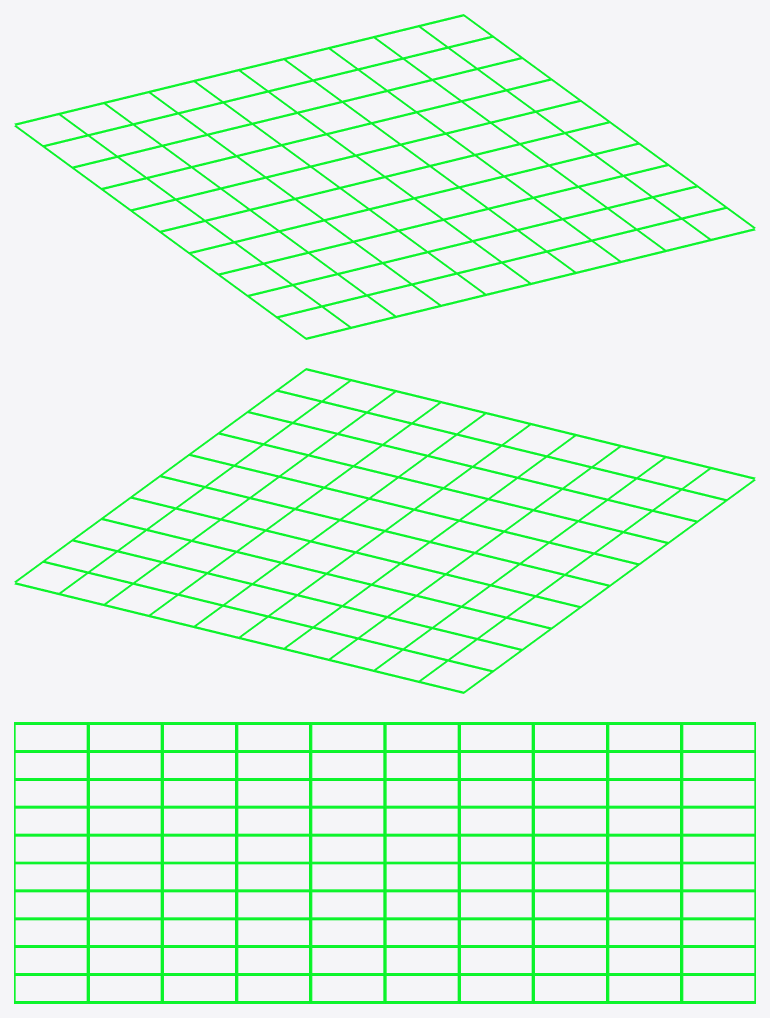
The model's file is CeilingWireframe.glb.
3 renders of one model, top to bottom at view 1: azimuth 30°, elevation 25°; view 2: azimuth 150°, elevation 25°; view 3: azimuth 270°, elevation 25°, orthographic. The views are drawn at different scales.
Visible parts, largest first — view 1: wireframe room.001; view 2: wireframe room.001; view 3: wireframe room.001.
Boxes of the visible parts, x1,y1,x2,y2 form: wireframe room.001: [14, 14, 755, 339]; wireframe room.001: [14, 368, 755, 693]; wireframe room.001: [14, 722, 755, 1003].
Size of the model in its own units: 40 by 0.2 by 45.
